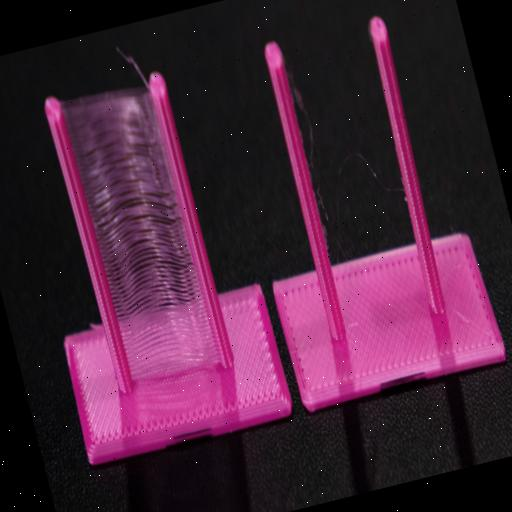stringing: (62, 90, 221, 380), (289, 77, 331, 254)
